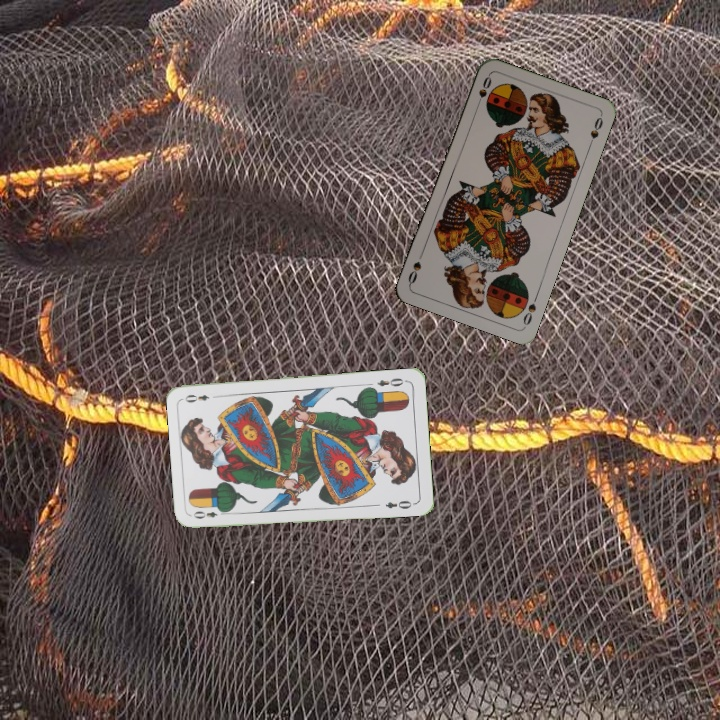EO: (189, 505, 229, 521), (373, 374, 409, 389)
SO: (472, 72, 494, 111), (519, 290, 541, 328)
